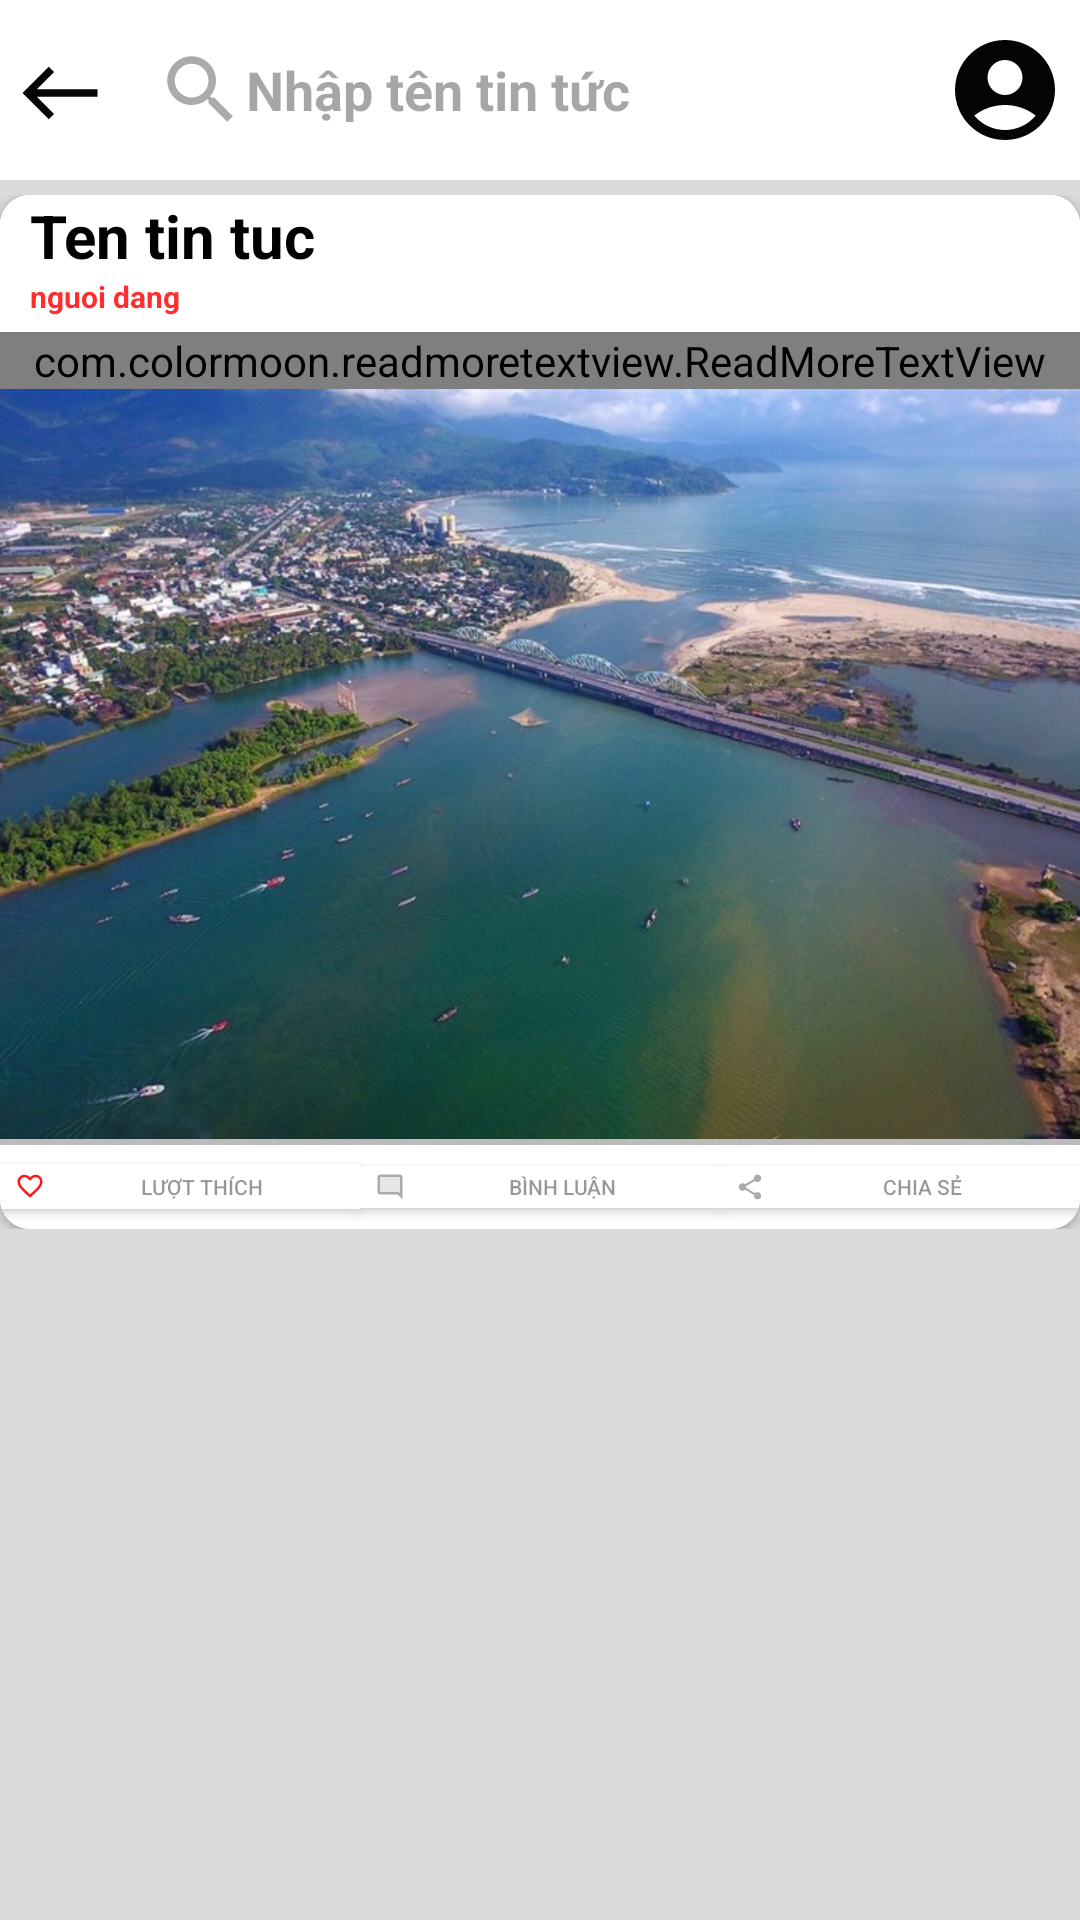

Icon bounding boxes for this 1080*1920 phone screenshot, format {"left": x1, "top": y1, "right": x2, "bottom": y2}:
home account: {"left": 955, "top": 40, "right": 1055, "bottom": 140}
home west left: {"left": 22, "top": 67, "right": 98, "bottom": 119}
